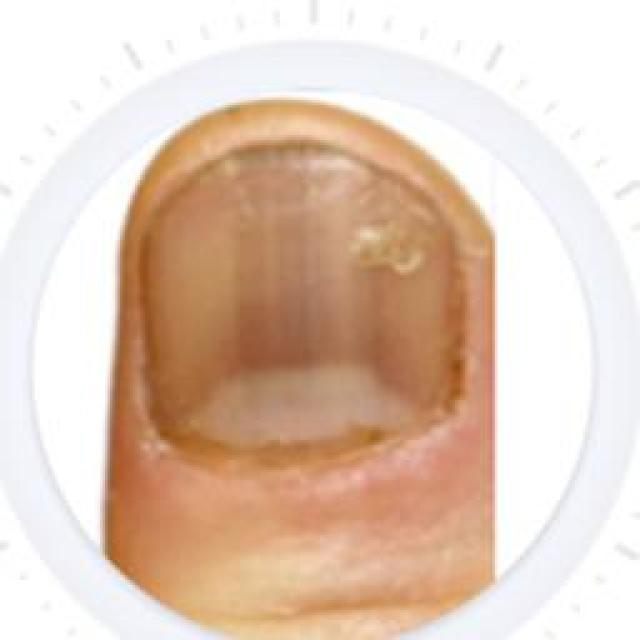Nail: (143, 139, 464, 474)
